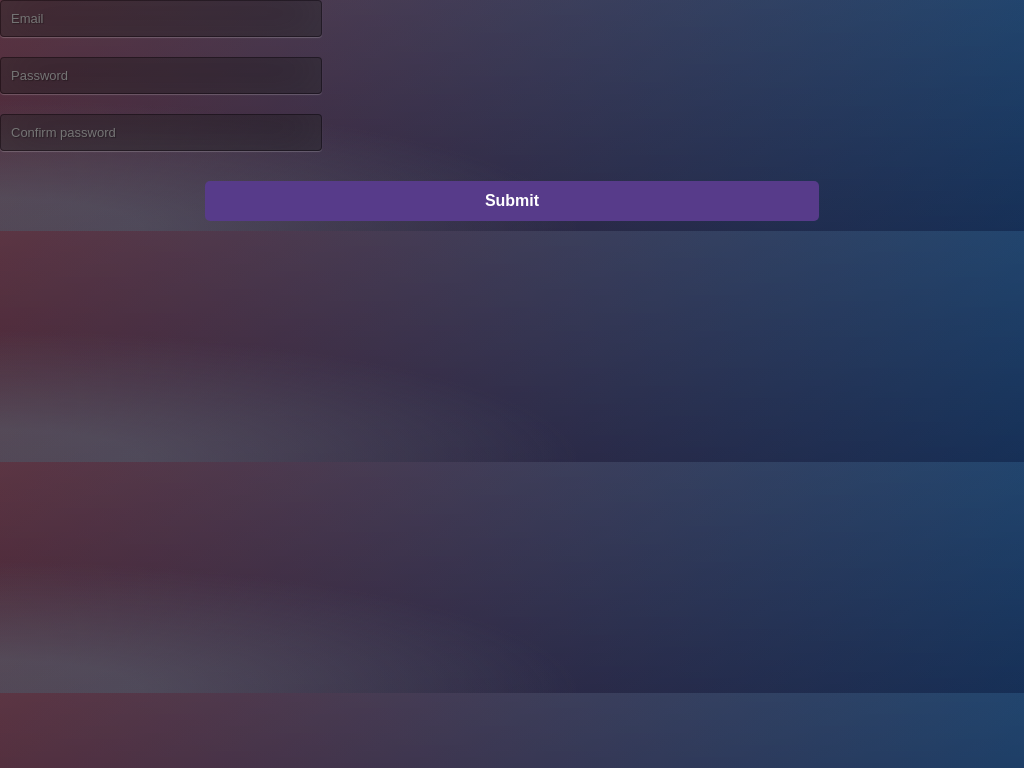
Test: SignUpForm › should ensure input values are required.
Click the button "Submit".
click(512, 201)  # box [205,181,819,221]
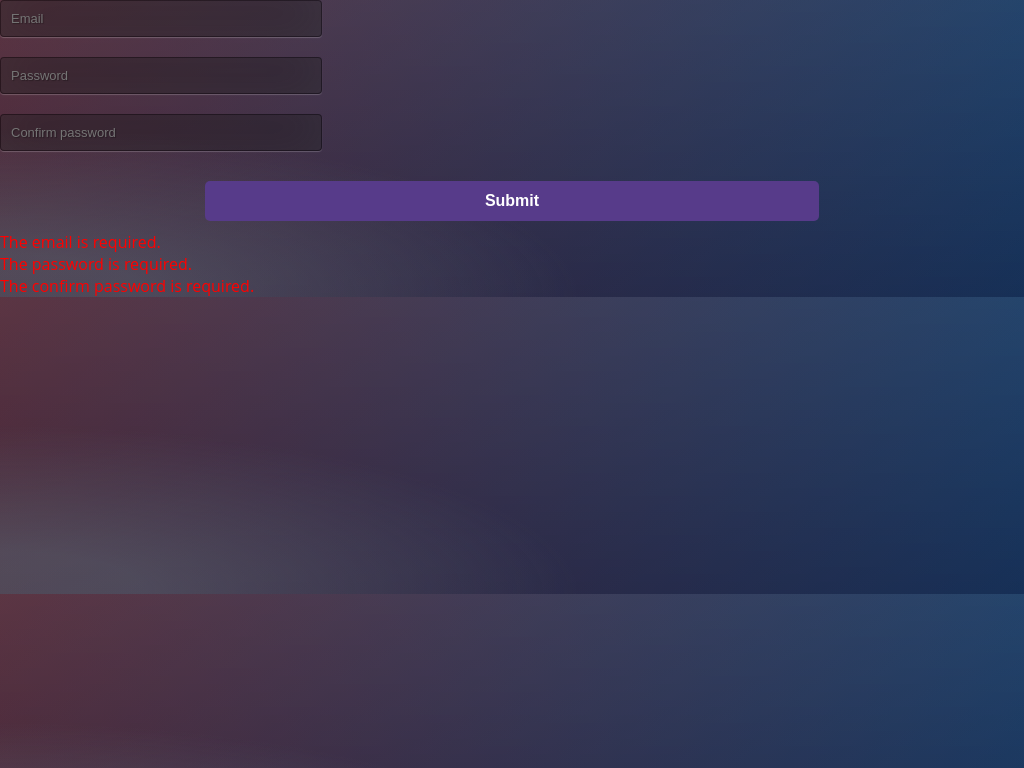
Check: the text "The email is required." is shown, box [0,231,161,253]
Check: the text "The password is required." is shown, box [0,253,192,275]
Check: the text "The confirm password is required." is shown, box [0,275,254,297]
